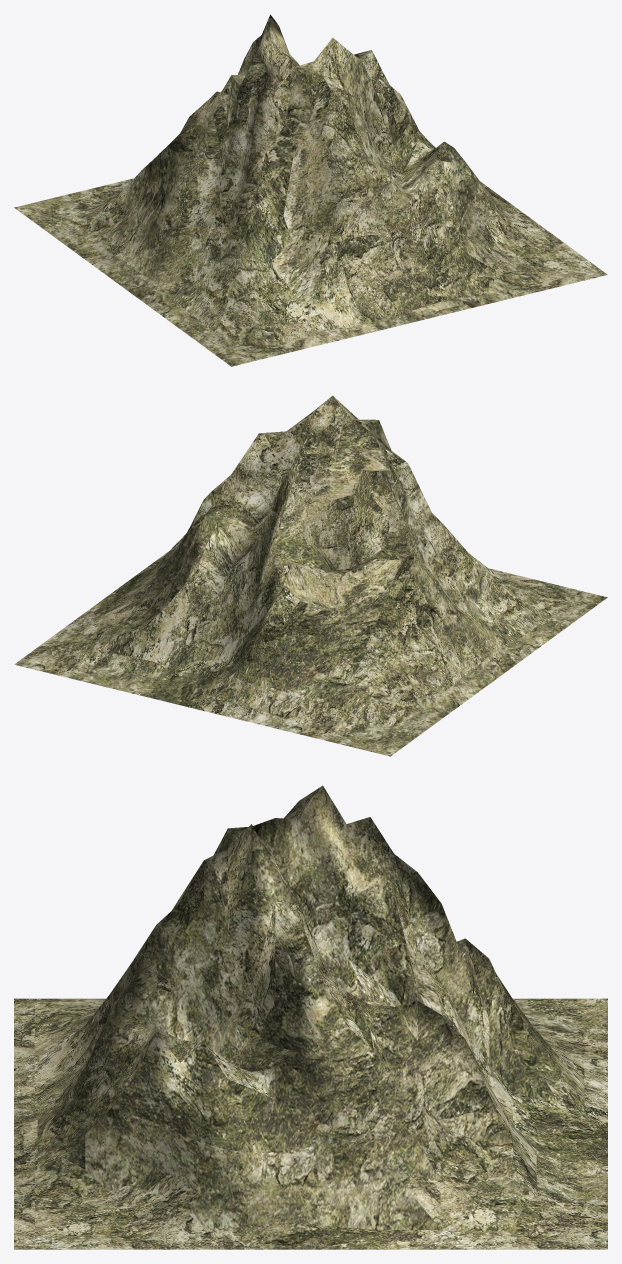
File: montines.fbx
3 renders of one model, top to bottom at view 1: azimuth 30°, elevation 25°; view 2: azimuth 150°, elevation 25°; view 3: azimuth 270°, elevation 25°, orthographic. The views are drawn at different scales.
Visible parts, largest first — view 1: m; view 2: m; view 3: m.
Boxes of the visible parts, <box> form: m: <box>14,14,607,366</box>; m: <box>14,395,607,756</box>; m: <box>14,785,607,1249</box>.
Size of the model in its own units: 508 by 296 by 508.
1 material, 1 textured.
